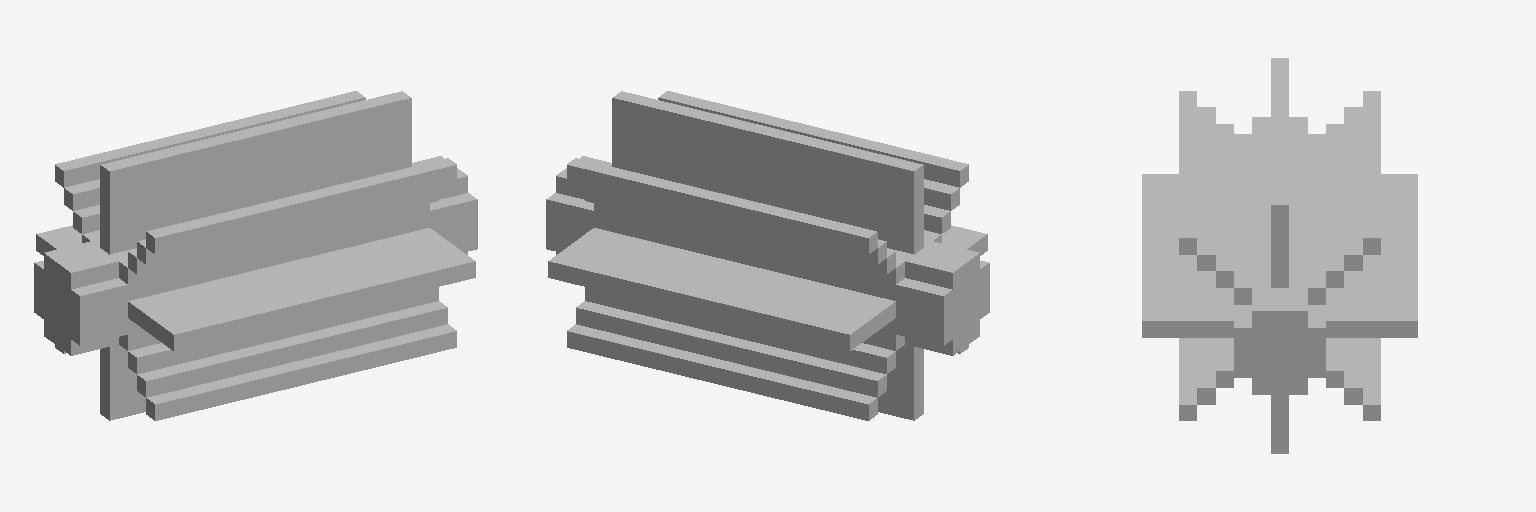
File: turbineCenter.obj
3 views of the same model, side by side, from view 1: azimuth 30°, elevation 25°; view 2: azimuth 150°, elevation 25°; view 3: azimuth 270°, elevation 25° (orthographic).
Bounding box in the file's own units: 1 × 0.6 × 0.6.